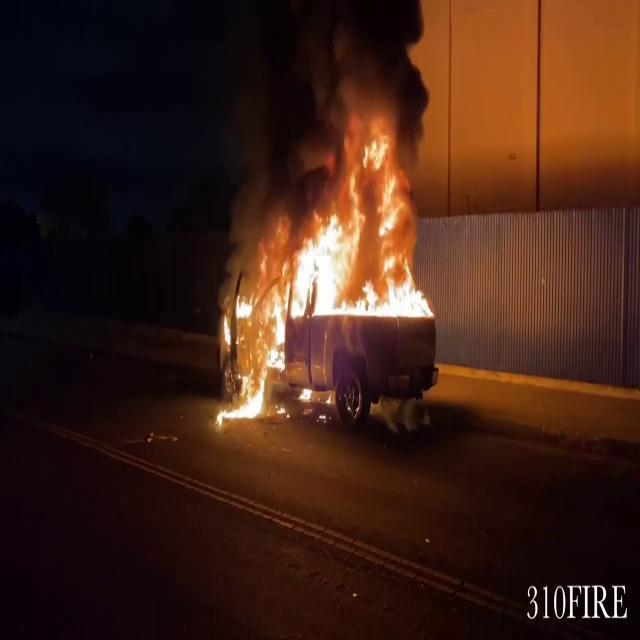Fire: (220, 129, 434, 419)
